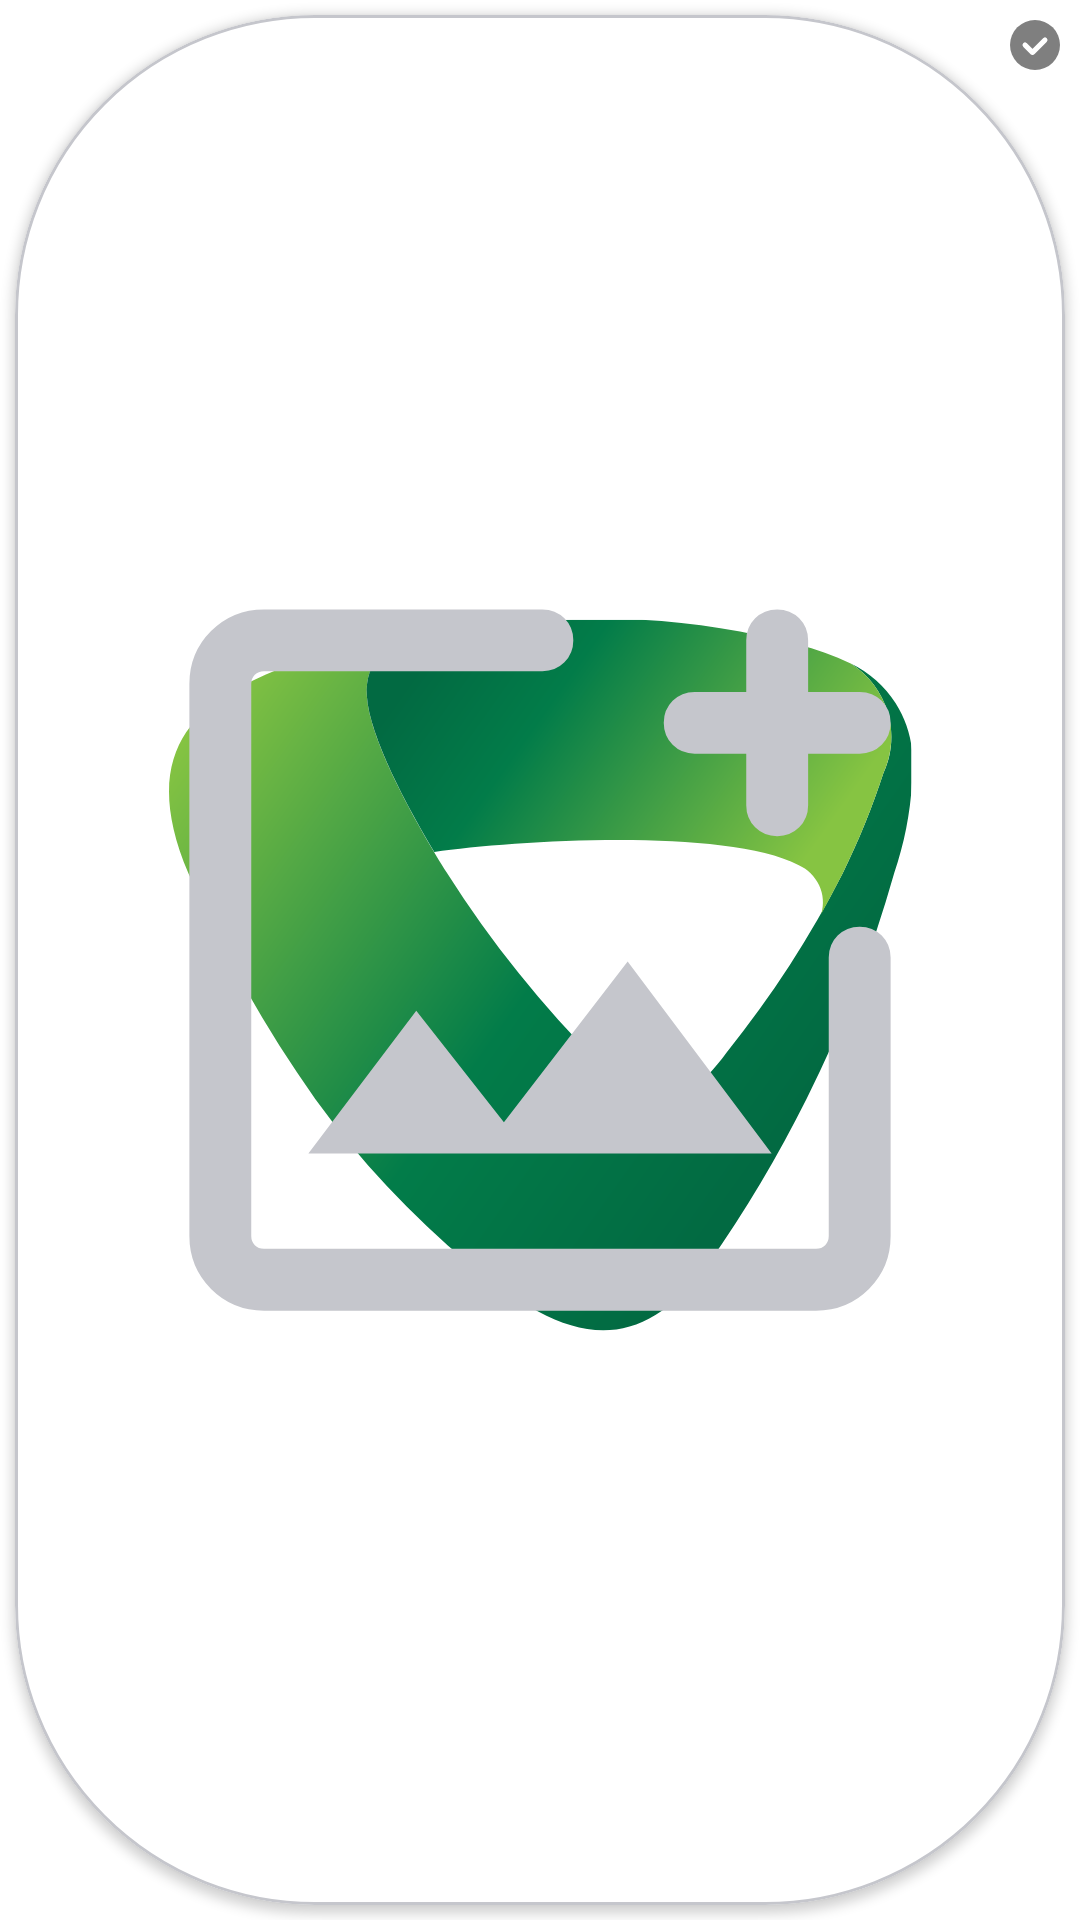

Screen size 1080*1920. Icon name, then its box in pixels as BBox(x1, y1, x2, y2):
solar check circle: BBox(1010, 20, 1060, 70)
